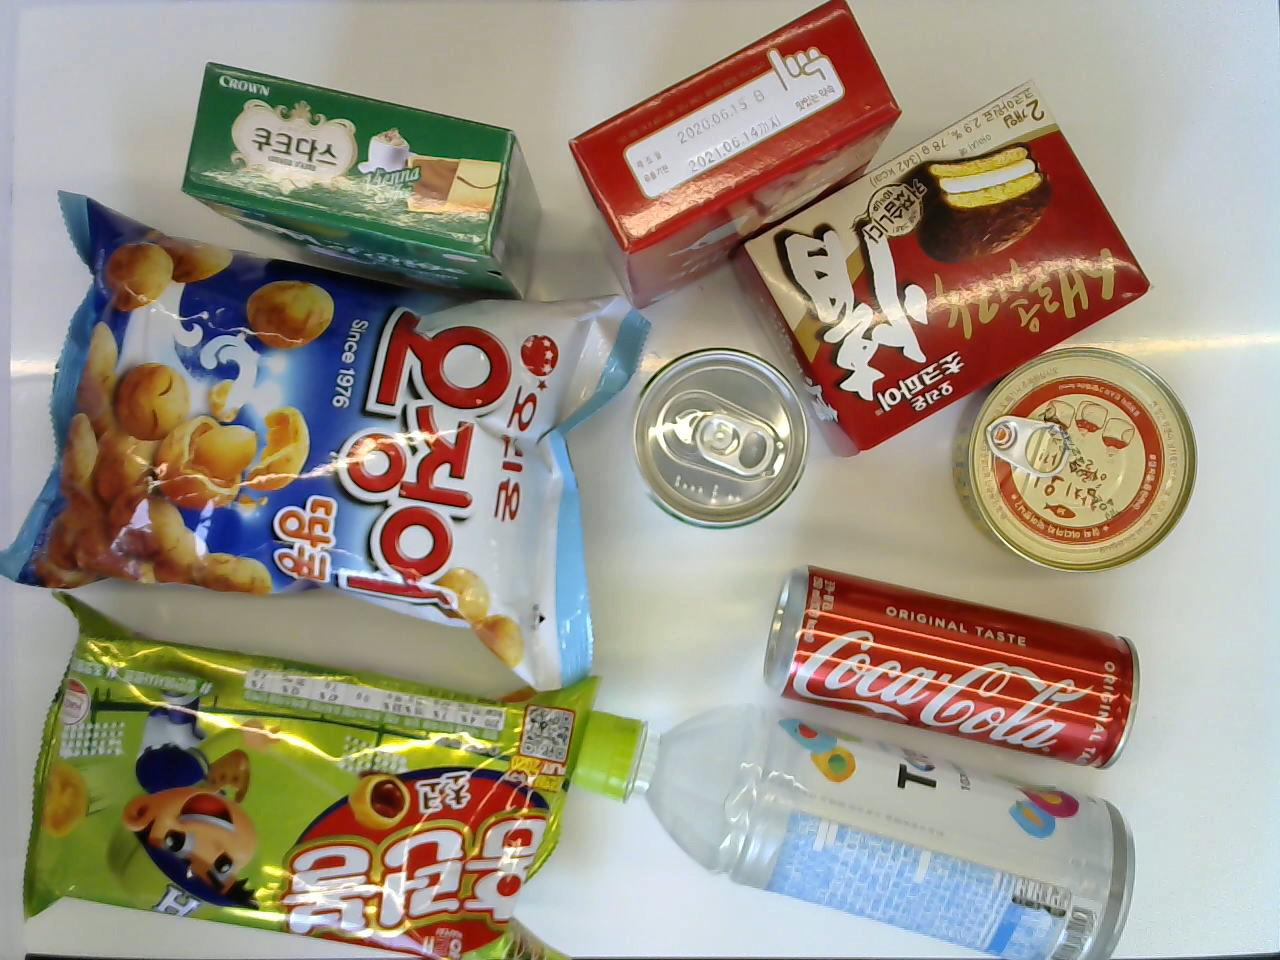chocopie: (723, 72, 1151, 462)
cidar: (626, 343, 813, 530)
coke: (765, 559, 1145, 767)
couque_coffee: (182, 56, 546, 298)
couque_white: (562, 1, 903, 314)
homerunball: (13, 579, 602, 959)
squid_peanut: (1, 181, 648, 700)
toreta: (552, 699, 1133, 958)
tuna: (953, 335, 1203, 578)
